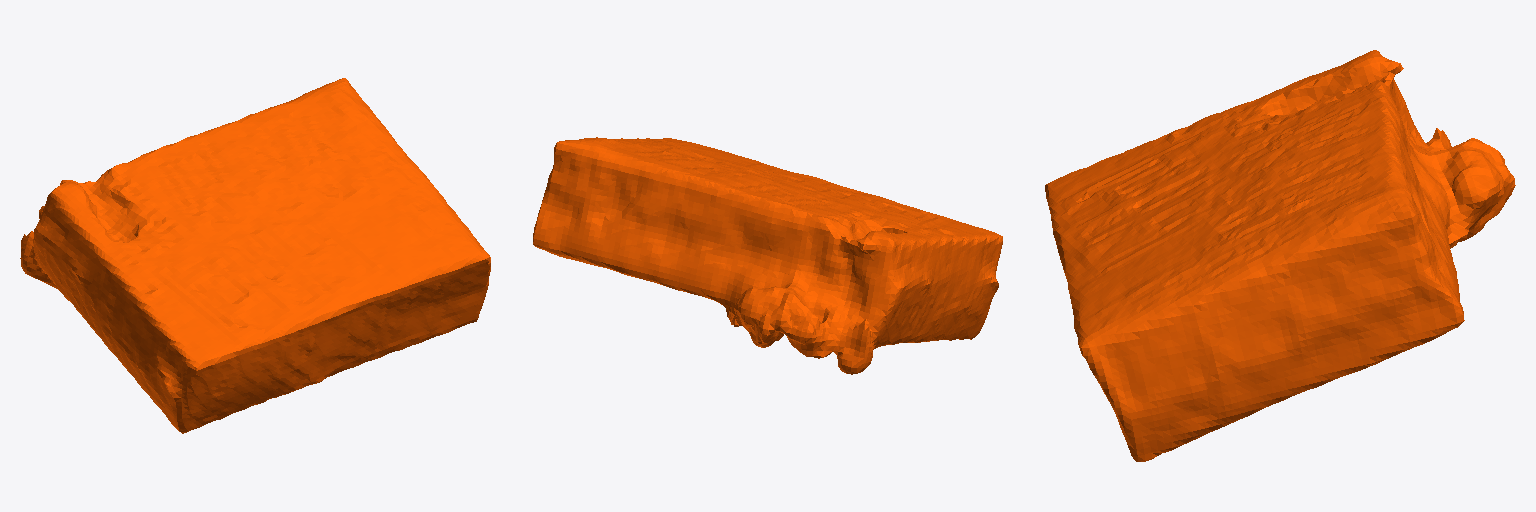
robot.urdf — c8d39e1aa:
<?xml version="1.0" ?>
<robot name="c8d39e1aa">
   <material name="obj_color">
      <color rgba="1.0 0.423529411765 0.0392156862745 1.0"/>
   </material>
   <link name="top">
      <inertial>
         <origin rpy="0.007447637412734331 0.01236030928024735 0.01777047138923667" xyz="0.0001606724445220783 -0.00964855665114368 0.0003757072998818552"/>
         <mass value="2.605275938382701"/>
         <inertia ixx="0.007505010863587938" ixy="6.047613921622015e-05" ixz="-0.0007373015567033914" iyy="0.01298475575011875" iyz="-0.00173040184172113" izz="0.01708865146851165"/>
      </inertial>
      <visual>
         <origin rpy="0 0 0" xyz="0 0 0"/>
         <geometry>
            <mesh filename="top_watertight_tiny.stl" scale="1 1 1"/>
         </geometry>
         <material name="obj_color"/>
      </visual>
      <collision>
         <origin rpy="0 0 0" xyz="0 0 0"/>
         <geometry>
            <mesh filename="top_watertight_tiny.obj" scale="1 1 1"/>
         </geometry>
      </collision>
   </link>
   <link name="bottom">
      <inertial>
         <origin rpy="1.633333333199431e-08 1.633333333199431e-08 1.633333333362855e-08" xyz="0.3464080000000008 0.3464080000000008 0.3464080000000008"/>
         <mass value="0.0009800000000000017"/>
         <inertia ixx="1.633333333253906e-08" ixy="5.447480642029219e-19" ixz="5.447480642029219e-19" iyy="1.633333333253906e-08" iyz="5.447480642029219e-19" izz="1.633333333253906e-08"/>
      </inertial>
      <visual>
         <origin rpy="0 0 0" xyz="0 0 0"/>
         <geometry>
            <mesh filename="bottom_watertight_tiny.stl" scale="1 1 1"/>
         </geometry>
         <material name="obj_color"/>
      </visual>
   </link>
   <joint name="rotation" type="revolute">
      <origin xyz="0 0 0"/>
      <axis xyz="0 0 -1"/>
      <parent link="bottom"/>
      <child link="top"/>
      <dynamics damping="1.0" friction="1.0"/>
      <limit effort="0.1" velocity="0.1" lower="0" upper="0.001"/>
   </joint>
</robot>

--- Render facts (derived) ---
3 views of the same robot in one strip: view 1: azimuth 30°, elevation 25°; view 2: azimuth 150°, elevation 25°; view 3: azimuth 270°, elevation 25° (orthographic).
Model c8d39e1aa with 2 links and 1 joints (1 revolute), rooted at bottom, posed all joints at 0.
Links seen in each view (by area): view 1: top; view 2: top; view 3: top.
Link boxes in pixels (x1,y1,x2,y2): top: (20, 78, 490, 433); top: (533, 137, 1002, 374); top: (1045, 50, 1515, 461).
Size in the robot's own frame: 0.252 by 0.2194 by 0.1394 metres.
1 mesh visuals loaded from 2 distinct referenced files (1 binary STL); not drawn: 1 (reference not matched to a file when rendering).